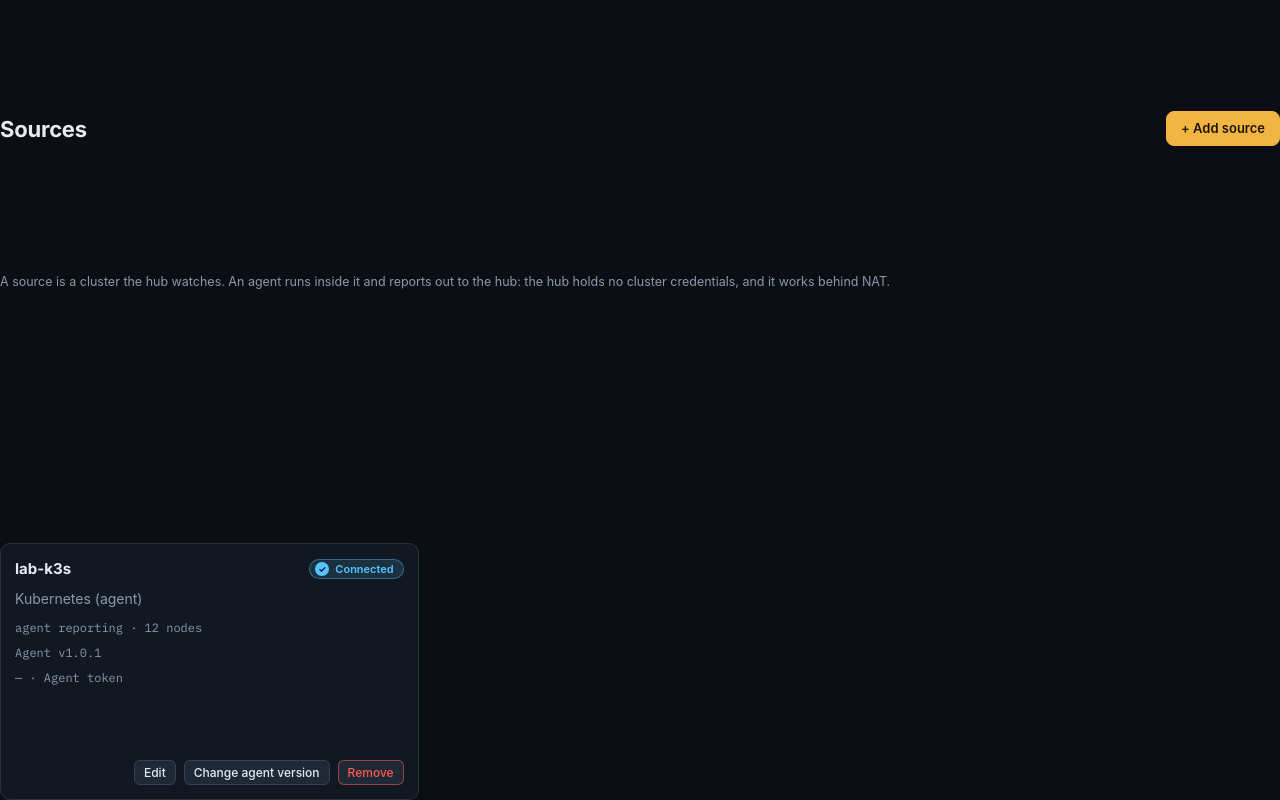
Test: changing the agent version › says what to do when the agents were installed read-only, and cannot apply
Click the button "Change agent version": (257, 772) [184,760,330,785]
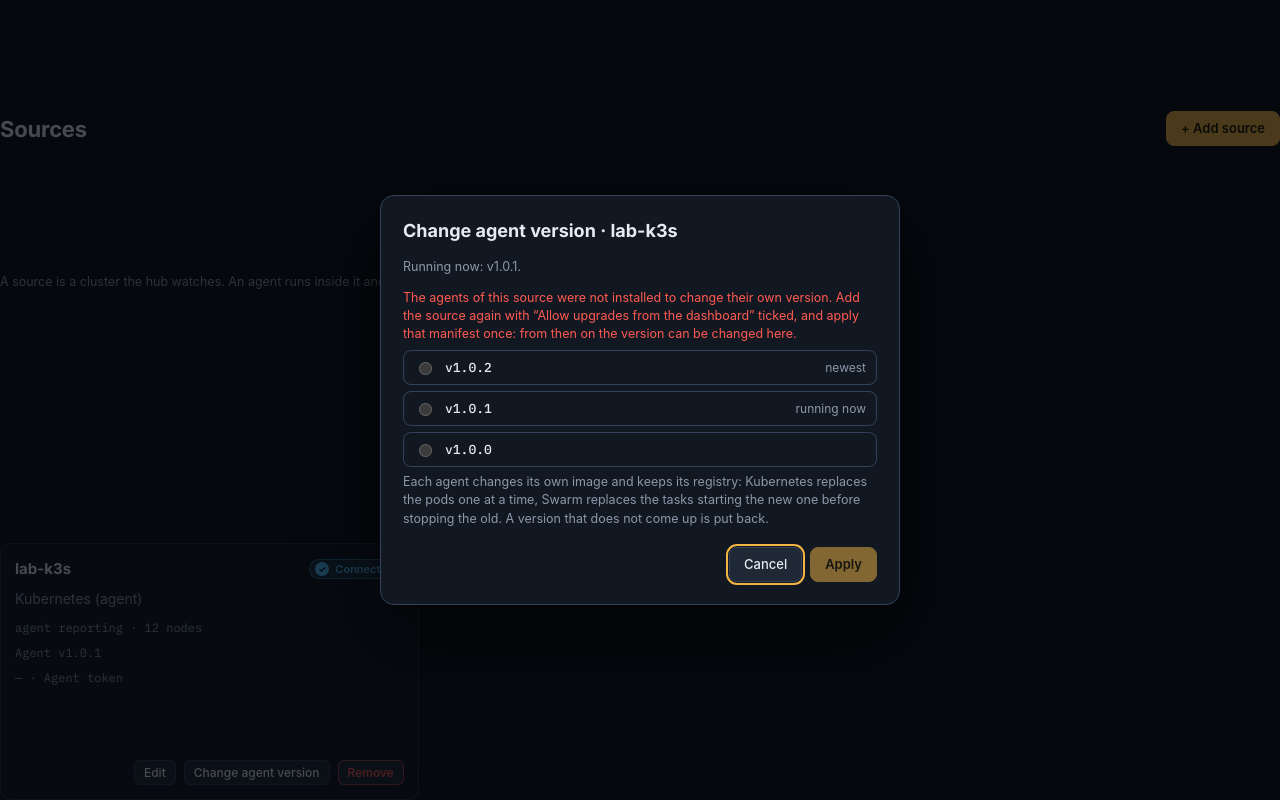
Now the text "Add the source again with “Allow upgrades from the dashboard” ticked" is shown, box [403,290,860,342]
Now the button "Apply" is disabled, box [810,547,877,582]
